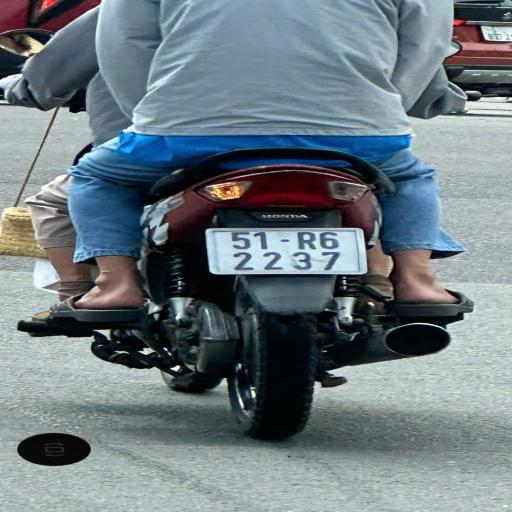1: (254, 227, 277, 256)
2: (230, 250, 254, 280), (263, 248, 286, 275)
3: (282, 245, 319, 275)
5: (220, 230, 252, 252)
6: (318, 225, 349, 256)
7: (313, 252, 345, 277)
R: (287, 233, 330, 251)
